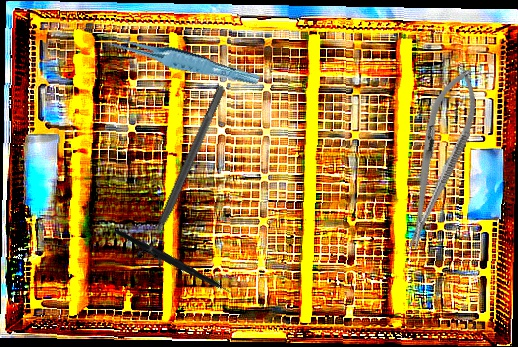Chopper: (113, 193, 245, 330)
Fixation Ring: (132, 80, 237, 270)
Needle Holder: (390, 62, 488, 255)
Tissue Forceps: (101, 22, 261, 97)
